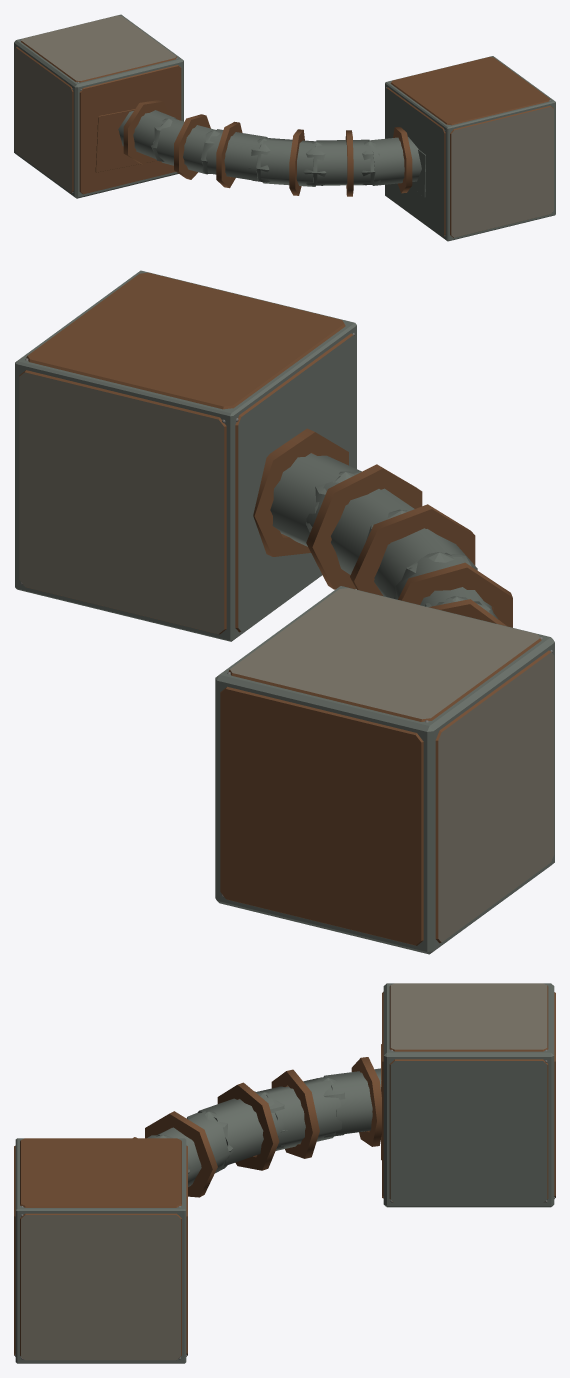
The model's file is R4C_STRUT_ARC.fbx.
The picture shows the model from 3 angles, top to bottom: view 1: azimuth 30°, elevation 25°; view 2: azimuth 150°, elevation 25°; view 3: azimuth 270°, elevation 25°; orthographic projection. The views are drawn at different scales.
Parts seen in each view (by area): view 1: R4C_STRUT_ARC; view 2: R4C_STRUT_ARC; view 3: R4C_STRUT_ARC.
Part boxes in pixels (x1,y1,x2,y2): R4C_STRUT_ARC: (14, 14, 555, 241); R4C_STRUT_ARC: (15, 270, 554, 954); R4C_STRUT_ARC: (14, 983, 555, 1363).
Bounding box in the file's own units: 1.62 × 0.52 × 1.62.
